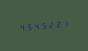five: (24, 21, 30, 32), (38, 20, 44, 30)
four: (17, 22, 23, 32), (31, 21, 37, 31)
one: (59, 18, 65, 29)
two: (45, 19, 51, 30), (52, 19, 58, 29)
